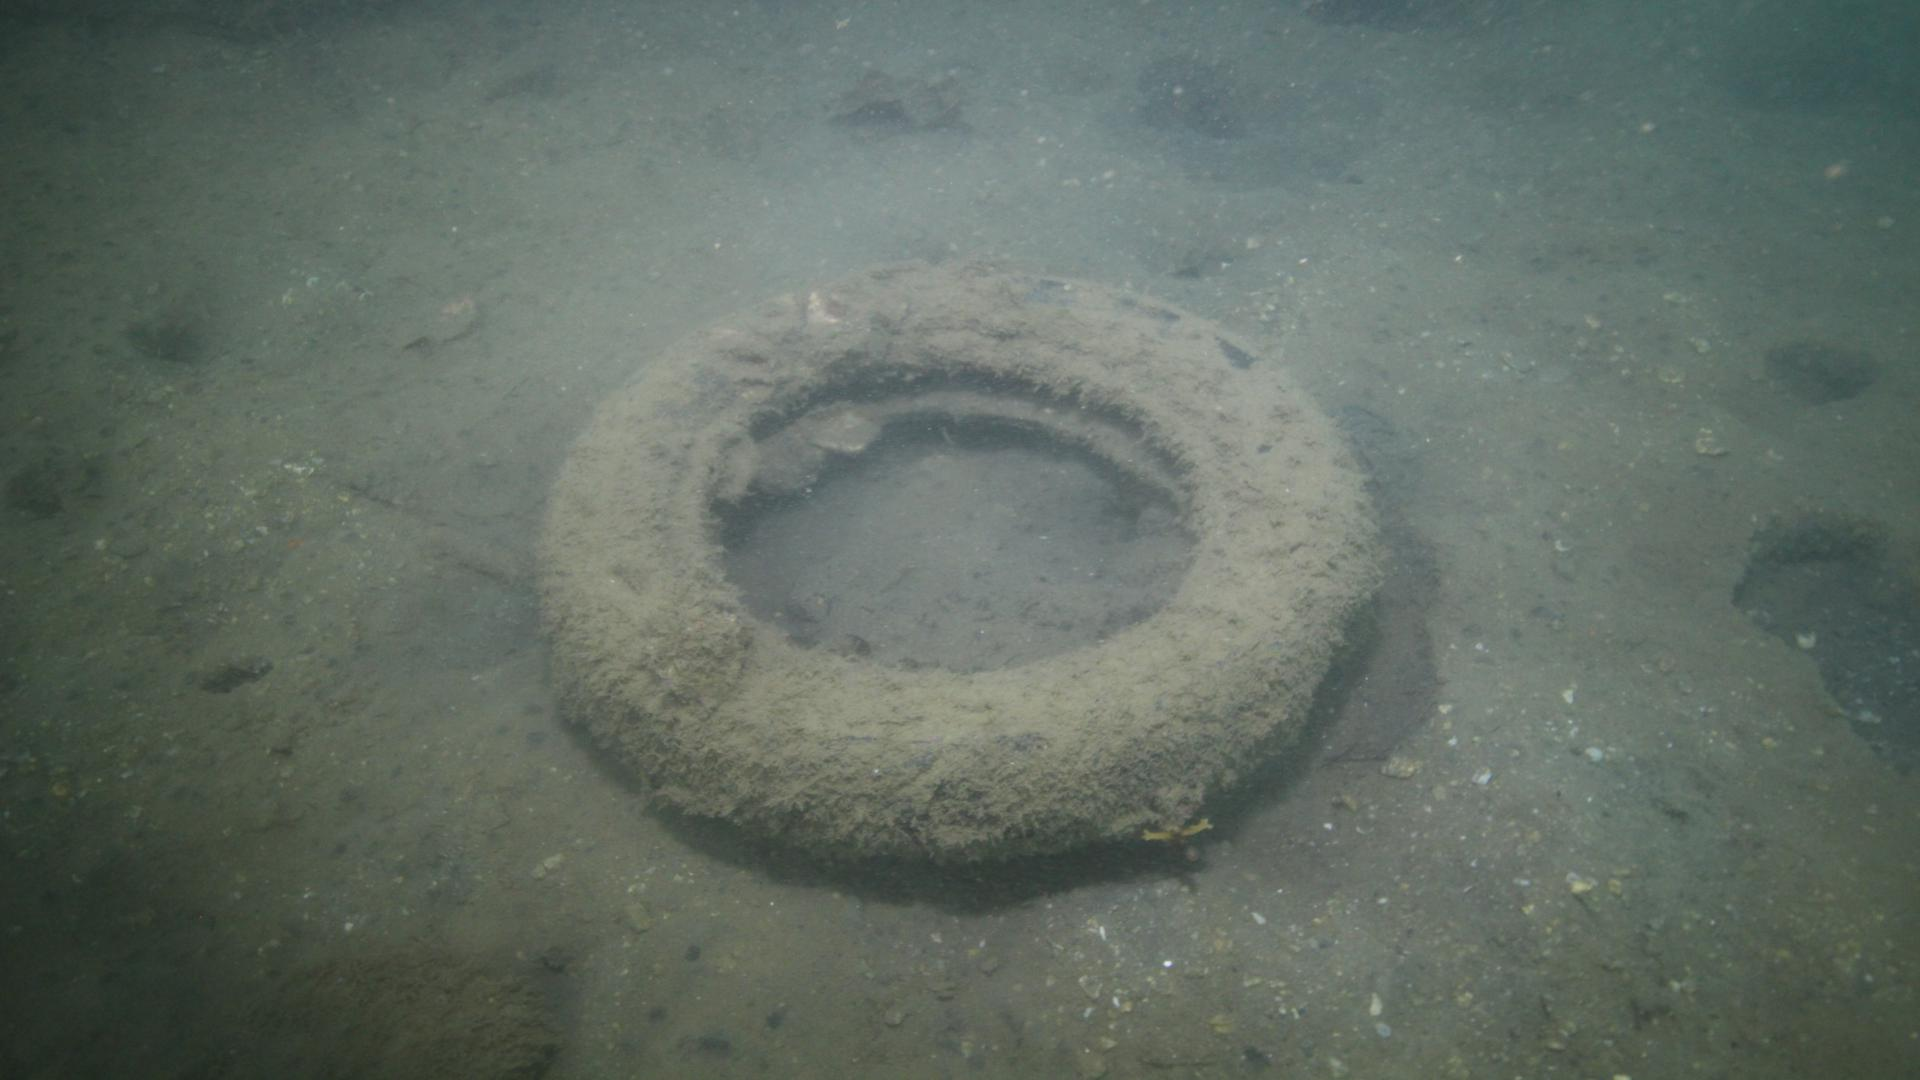tire: (527, 262, 1379, 870)
